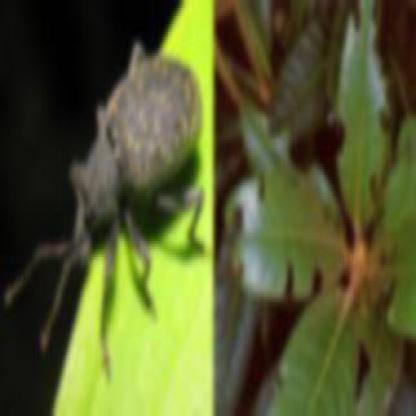ash weevil: (7, 42, 205, 356)
